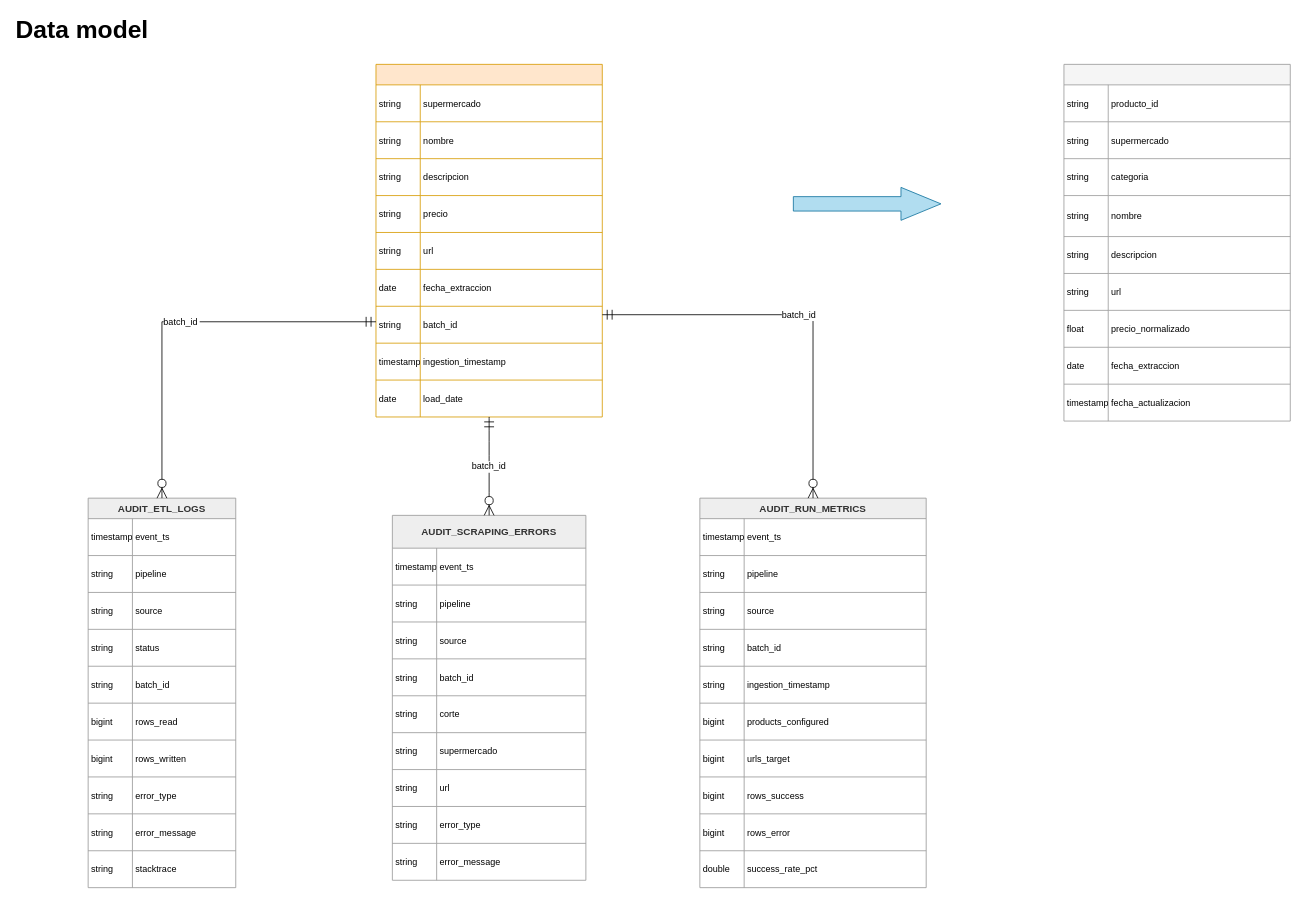
Image size: 1305x902. Some labels were removed from this diagram. Each missing label, with the box of its shape:
BRONZE_PRECIOS_SCRAPING: (375, 64, 602, 417)
SILVER_PRECIOS_SCRAPING: (1063, 64, 1290, 421)
